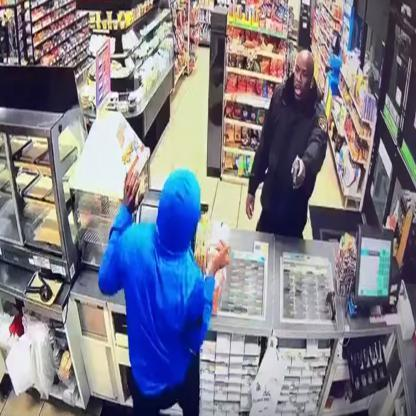pistols: (289, 152, 306, 196)
